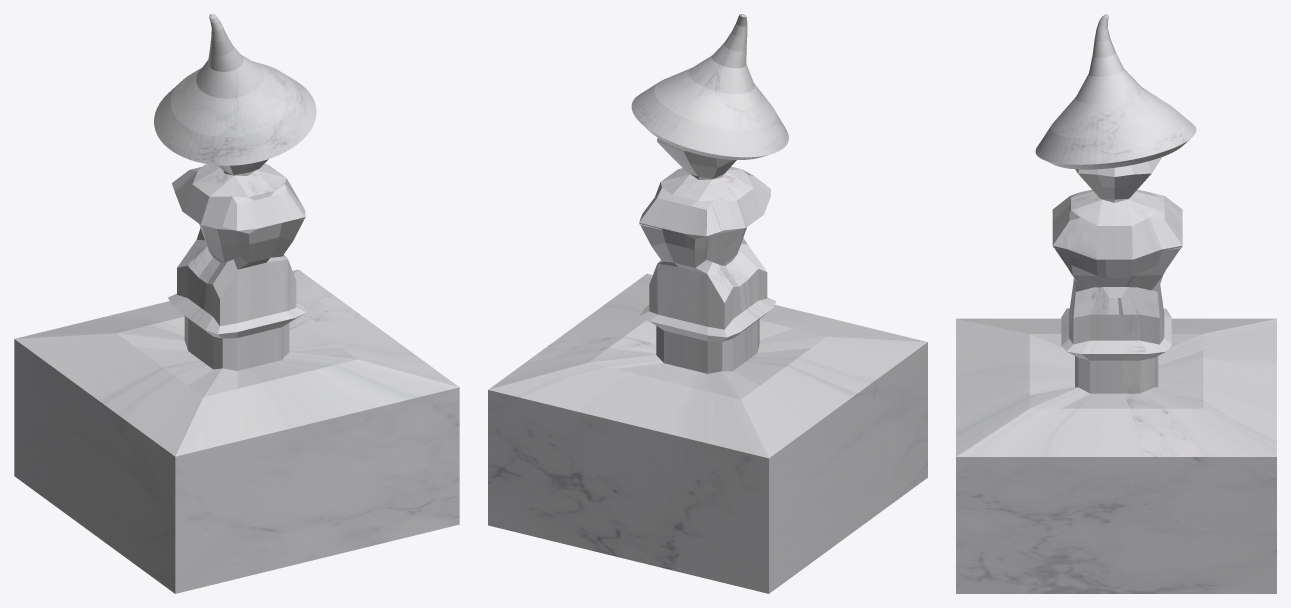
The model's file is Wizard.fbx.
3 views of the same model, side by side, from view 1: azimuth 30°, elevation 25°; view 2: azimuth 150°, elevation 25°; view 3: azimuth 270°, elevation 25° (orthographic).
Parts seen in each view (by area): view 1: Cube.092; view 2: Cube.092; view 3: Cube.092.
Boxes of the visible parts, <box> form: Cube.092: <box>14,14,459,593</box>; Cube.092: <box>488,14,927,593</box>; Cube.092: <box>956,14,1276,593</box>.
Bounding box in the file's own units: 86.57 × 145 × 84.85.
